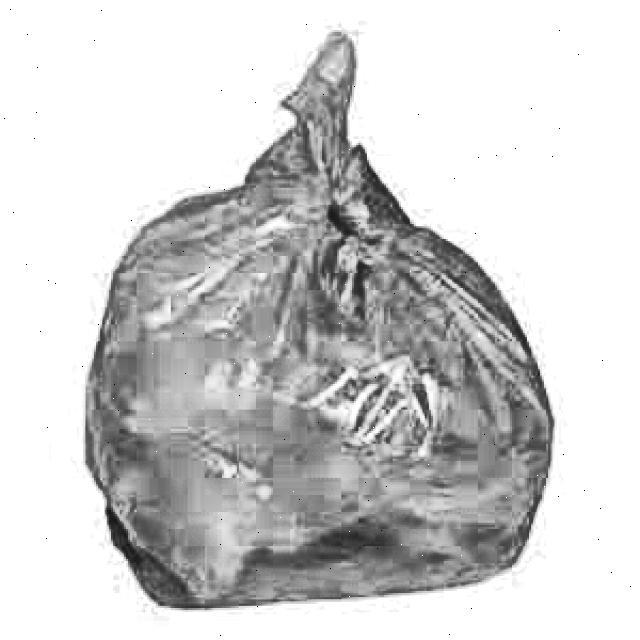Trashbag: (64, 26, 566, 627)
